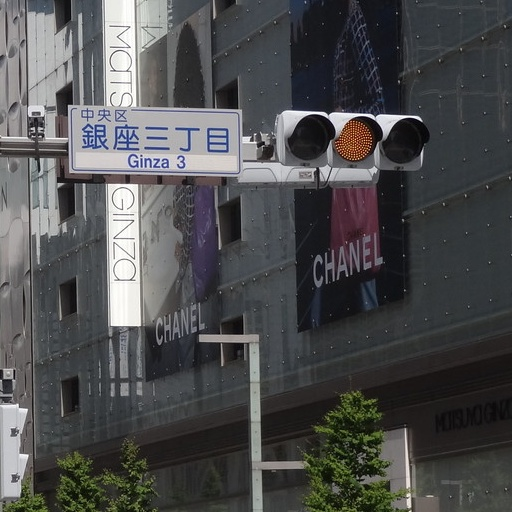Traffic_Signal_Yellow: (278, 109, 430, 173)
